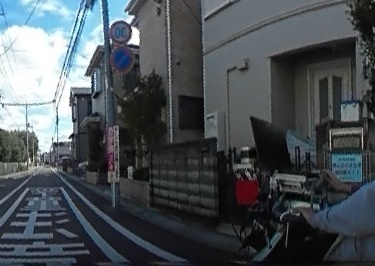person: (277, 49, 375, 256)
